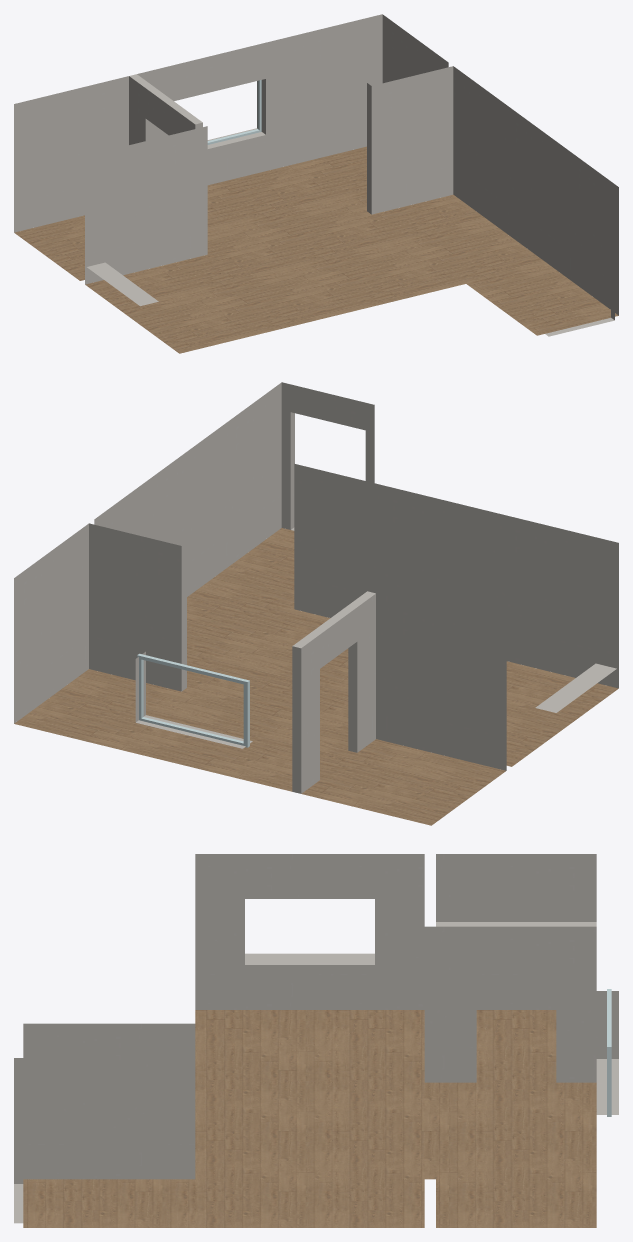
File: room-low.glb
3 renders of one model, top to bottom at view 1: azimuth 30°, elevation 25°; view 2: azimuth 150°, elevation 25°; view 3: azimuth 270°, elevation 25°, orthographic. The views are drawn at different scales.
Visible parts, largest first — view 1: Room_0, Floor_3, Window1.001_7; view 2: Room_0, Floor_3, Window1.001_7; view 3: Room_0, Floor_3, Window1.001_7.
Boxes of the visible parts, x1=… form: Room_0: x1=14, y1=14, x2=618, y2=336; Floor_3: x1=14, y1=146, x2=618, y2=353; Window1.001_7: x1=207, y1=80, x2=261, y2=144; Room_0: x1=14, y1=382, x2=618, y2=793; Floor_3: x1=14, y1=528, x2=618, y2=825; Window1.001_7: x1=137, y1=653, x2=249, y2=747; Room_0: x1=14, y1=854, x2=618, y2=1223; Floor_3: x1=23, y1=1010, x2=596, y2=1227; Window1.001_7: x1=607, y1=989, x2=611, y2=1116.
Bounding box in the file's own units: 7.91 × 2.51 × 8.82.
3 materials, 2 textured.
